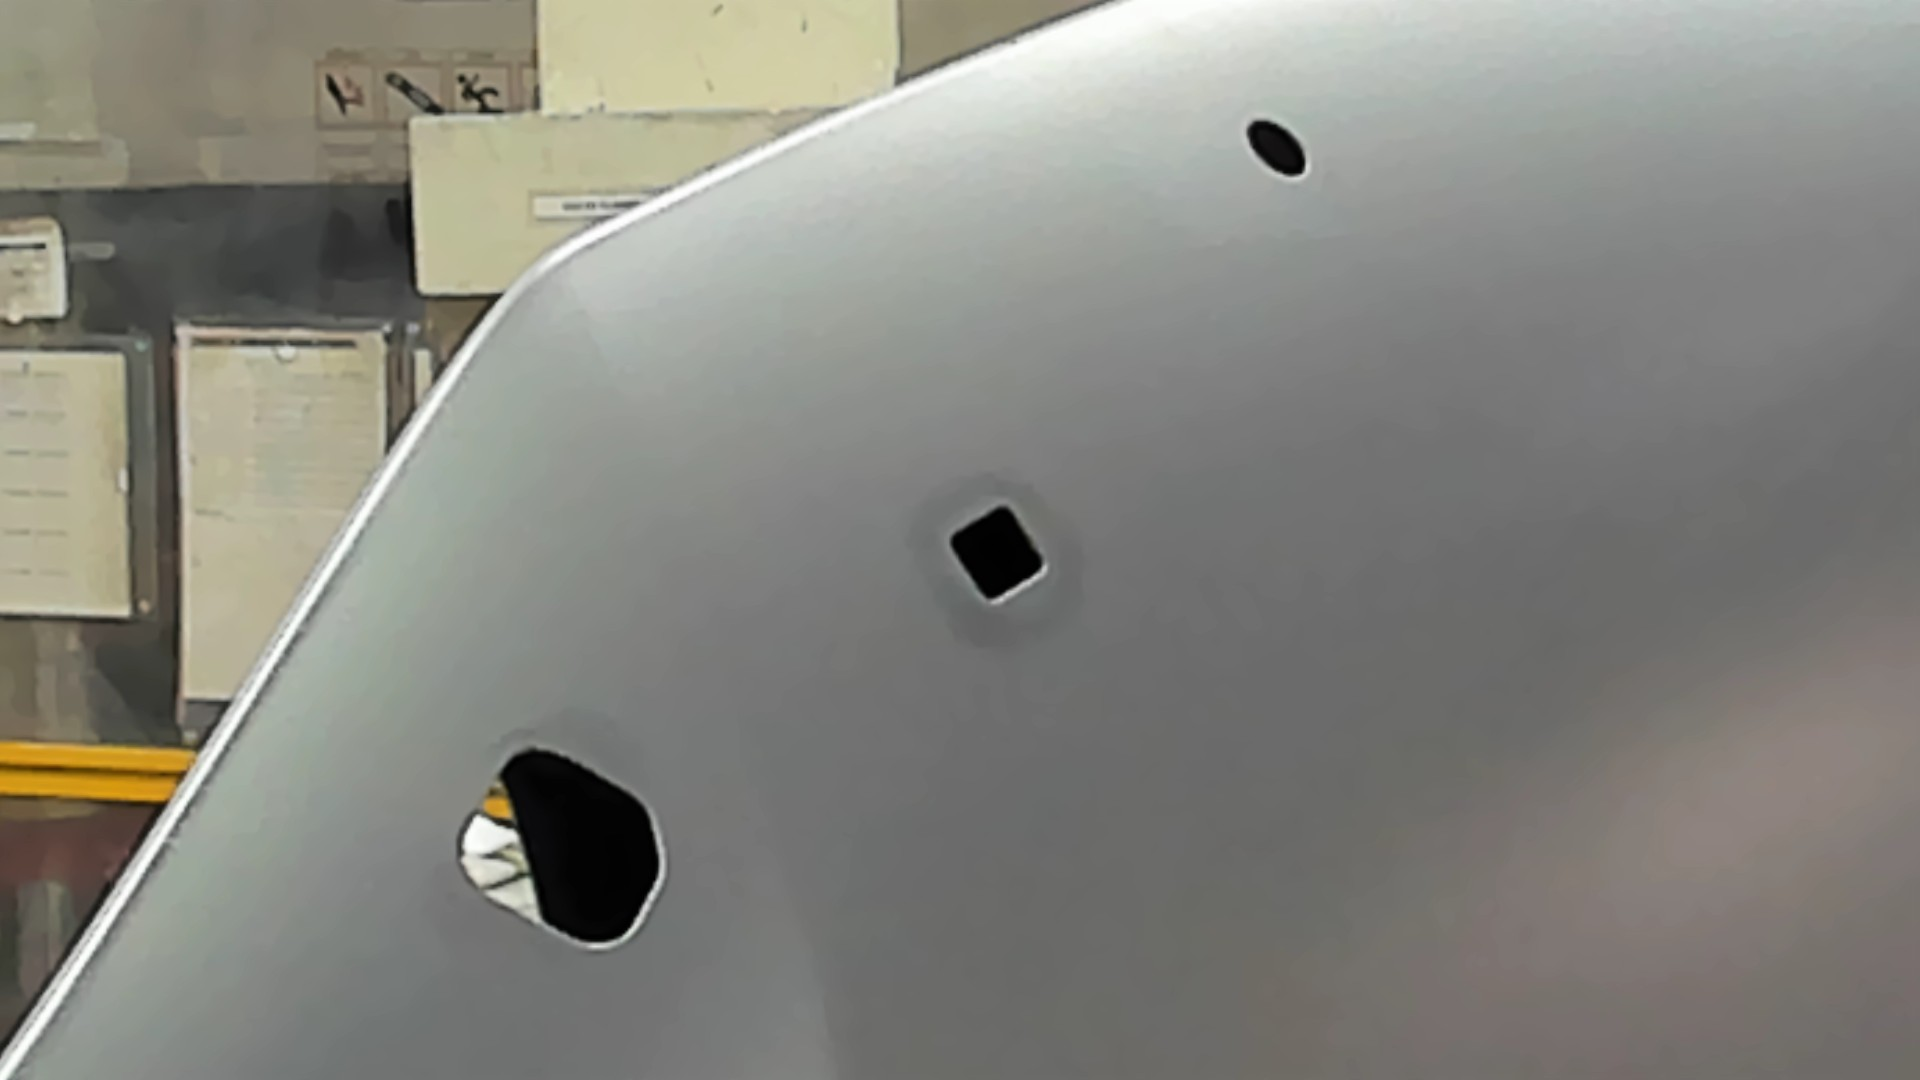chico: (1244, 111, 1313, 182)
grande: (450, 744, 674, 960)
mediano: (938, 495, 1055, 609)
